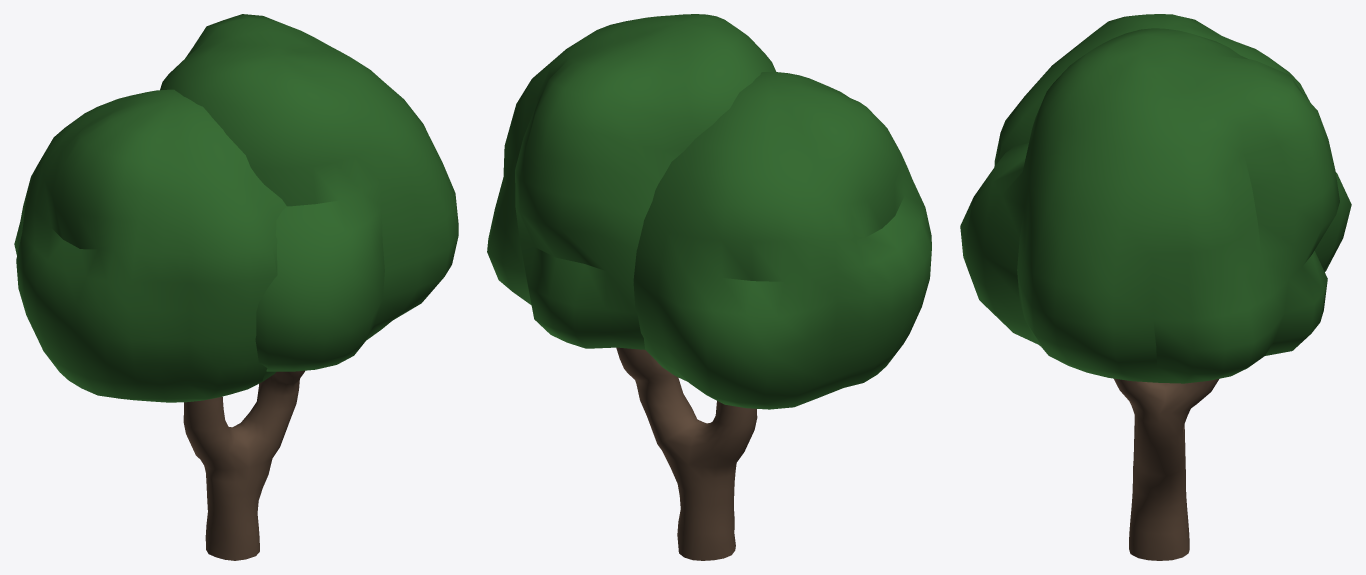
File: tree-1-2.fbx
3 renders of one model, left to right at view 1: azimuth 30°, elevation 25°; view 2: azimuth 150°, elevation 25°; view 3: azimuth 270°, elevation 25°, orthographic. The views are drawn at different scales.
Visible parts, largest first — view 1: Leaves, Trunk; view 2: Leaves, Trunk; view 3: Leaves, Trunk.
Part boxes in pixels (x1,y1,x2,y2): Leaves: (14, 14, 458, 402); Trunk: (183, 370, 304, 560); Leaves: (487, 14, 931, 409); Trunk: (616, 347, 757, 560); Leaves: (960, 14, 1351, 383); Trunk: (1114, 378, 1219, 560).
Size of the model in its own units: 286 by 344 by 236.
